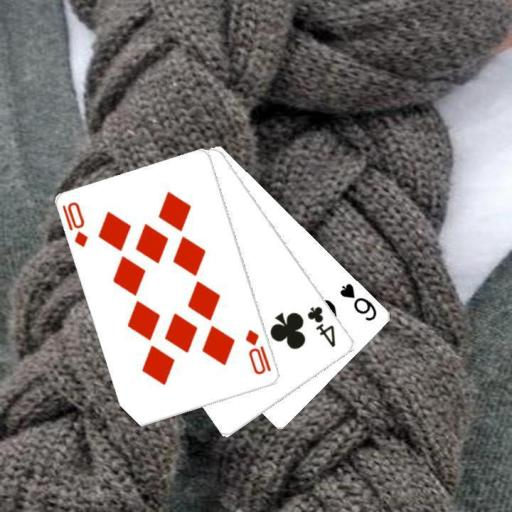card-corner: (337, 280, 379, 323), (59, 198, 90, 249), (304, 303, 338, 349), (243, 326, 273, 377)
